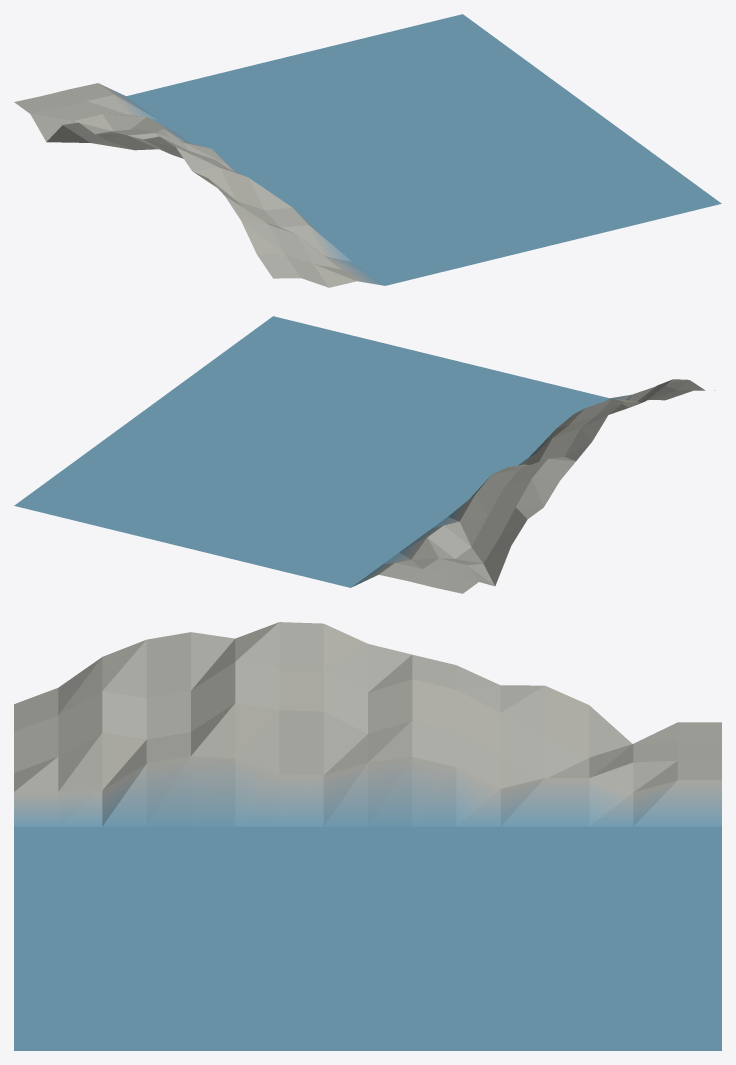
The picture shows the model from 3 angles, top to bottom: view 1: azimuth 30°, elevation 25°; view 2: azimuth 150°, elevation 25°; view 3: azimuth 270°, elevation 25°; orthographic projection. The views are drawn at different scales.
Size of the model in its own units: 32 by 6.47 by 32.
